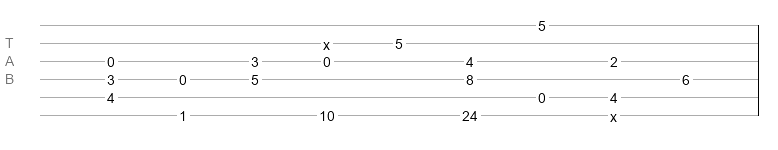0: (107, 54, 115, 64), (179, 72, 187, 82), (323, 54, 331, 64), (538, 90, 546, 100)
1: (179, 108, 187, 118)
10: (319, 108, 335, 118)
2: (610, 54, 618, 64)
24: (462, 108, 478, 118)
3: (107, 72, 115, 82), (251, 54, 259, 64)
4: (107, 90, 115, 100), (466, 54, 474, 64), (610, 90, 618, 100)
5: (251, 72, 259, 82), (395, 36, 403, 46), (538, 18, 546, 28)
6: (682, 72, 690, 82)
8: (466, 72, 474, 82)
x: (323, 37, 330, 45), (610, 109, 617, 117)
